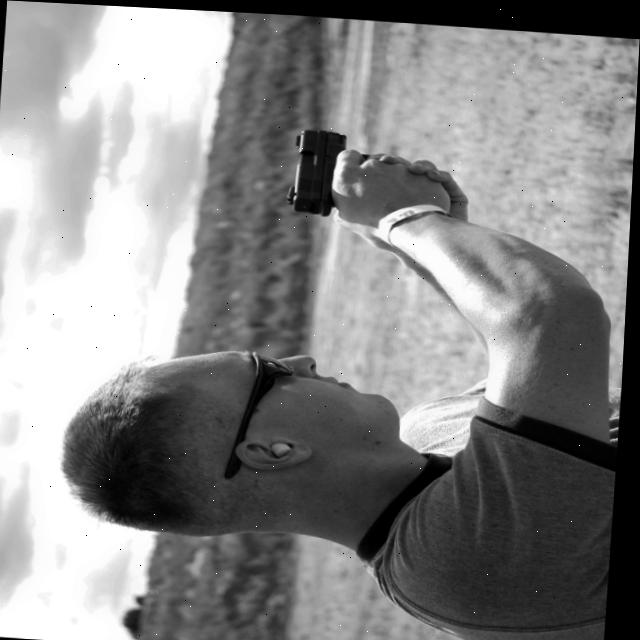pistol: (285, 124, 372, 215)
